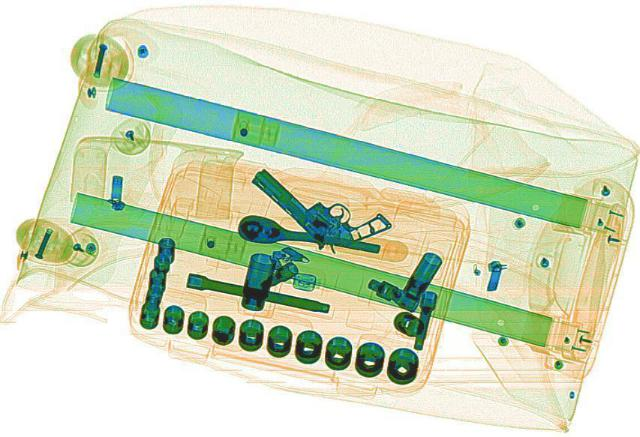Gun: (238, 147, 394, 254)
